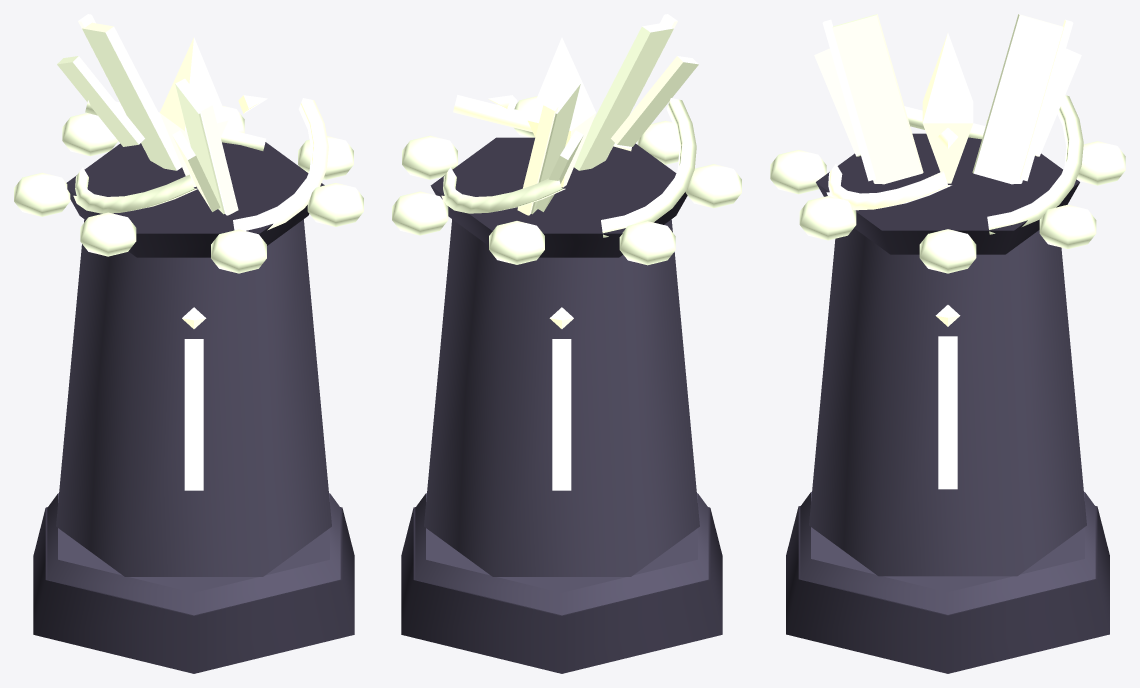
The model's file is tower_element_elementTempest.glb.
3 views of the same model, side by side, from view 1: azimuth 30°, elevation 25°; view 2: azimuth 150°, elevation 25°; view 3: azimuth 270°, elevation 25° (orthographic).
Visible parts, largest first — view 1: pillar, base, pillar_cap, base_top, wing_r_vane, rune_2, scoop_0_blade, crystal, wing_r_vane_b, scoop_2_blade, cloud_puff_3, cloud_puff_1 (+8 smaller); view 2: pillar, base, pillar_cap, base_top, wing_l_vane, scoop_2_blade, rune_1, crystal, wing_l_vane_b, scoop_1_blade, cloud_puff_6, cloud_puff_4 (+8 smaller); view 3: pillar, base, pillar_cap, base_top, wing_l_vane, wing_r_vane, crystal, rune_0, scoop_1_blade, scoop_0_blade, cloud_puff_1, cloud_puff_6 (+8 smaller).
Part boxes in pixels (x1,y1,x2,y2): pillar: (56,219,331,576); base: (33,507,354,673); pillar_cap: (66,142,324,257); base_top: (47,493,340,615); wing_r_vane: (82,22,181,170); rune_2: (184,339,203,490); scoop_0_blade: (233,98,328,230); crystal: (159,37,228,187); wing_r_vane_b: (57,56,144,146); scoop_2_blade: (73,167,197,213); cloud_puff_3: (80,212,136,256); cloud_puff_1: (307,183,363,226); pillar: (424,219,699,576); base: (401,507,722,673); pillar_cap: (430,137,687,257); base_top: (415,493,708,615); wing_l_vane: (574,22,673,170); scoop_2_blade: (601,98,696,237); rune_1: (552,339,571,490); crystal: (527,37,596,187); wing_l_vane_b: (611,56,698,146); scoop_1_blade: (441,167,565,213); cloud_puff_6: (392,191,448,235); cloud_puff_4: (619,221,675,265); pillar: (809,228,1086,576); base: (786,506,1109,673); pillar_cap: (816,133,1079,254); base_top: (800,492,1095,614); wing_l_vane: (832,14,923,184); wing_r_vane: (972,14,1063,184); crystal: (922,33,973,183); rune_0: (938,336,957,489); scoop_1_blade: (987,95,1083,234); scoop_0_blade: (826,164,951,210); cloud_puff_1: (799,196,856,240); cloud_puff_6: (1039,204,1096,248).
Size of the model in its own units: 0.39 by 0.6474 by 0.3709.
